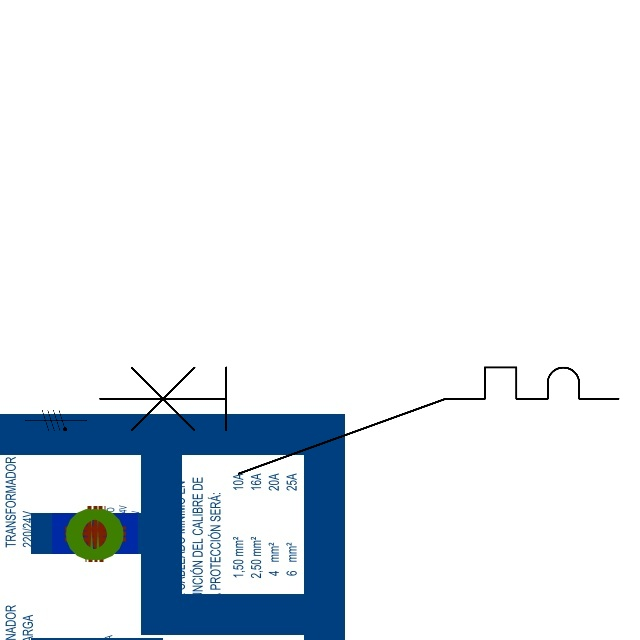interruptor_termomagnetico: (86, 354, 631, 487)
